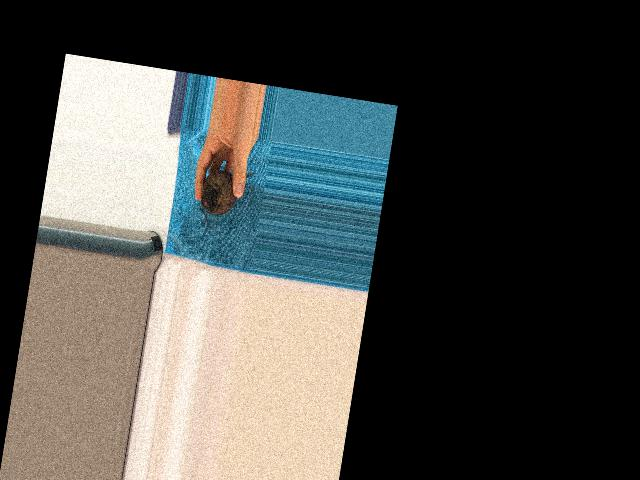beet: (197, 165, 255, 233)
